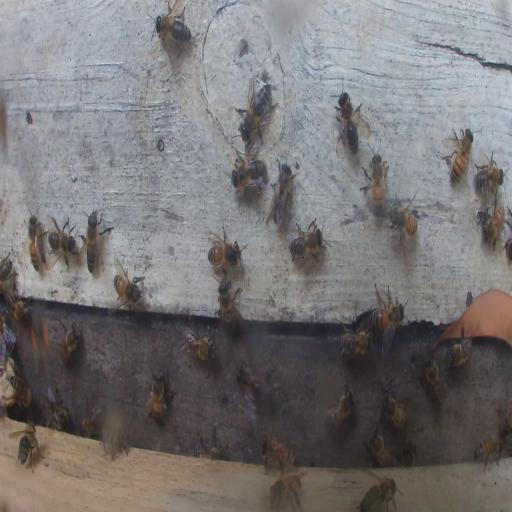bee: (237, 80, 278, 142), (152, 2, 192, 50), (334, 86, 361, 156), (444, 124, 474, 184), (361, 148, 388, 214), (387, 195, 419, 248), (288, 217, 324, 263), (270, 160, 294, 229), (207, 228, 242, 274), (28, 305, 50, 378), (47, 217, 79, 266), (324, 384, 356, 432), (474, 149, 504, 197), (113, 264, 144, 309), (368, 294, 404, 332), (231, 152, 266, 191), (360, 476, 400, 510), (259, 437, 296, 472), (237, 361, 266, 405), (217, 277, 240, 332), (149, 370, 170, 427), (473, 434, 505, 470), (14, 424, 40, 468), (184, 323, 214, 361), (380, 389, 407, 431), (269, 474, 302, 508), (84, 208, 101, 273), (366, 425, 392, 467), (481, 205, 505, 248), (338, 330, 372, 360), (58, 320, 80, 366), (423, 356, 445, 400), (48, 389, 70, 431), (28, 214, 43, 272), (8, 368, 32, 404), (445, 334, 472, 366), (80, 404, 104, 436), (5, 294, 31, 323), (193, 435, 224, 458), (497, 389, 510, 440), (0, 314, 16, 351), (109, 430, 129, 457), (0, 257, 15, 293), (402, 440, 417, 467)
